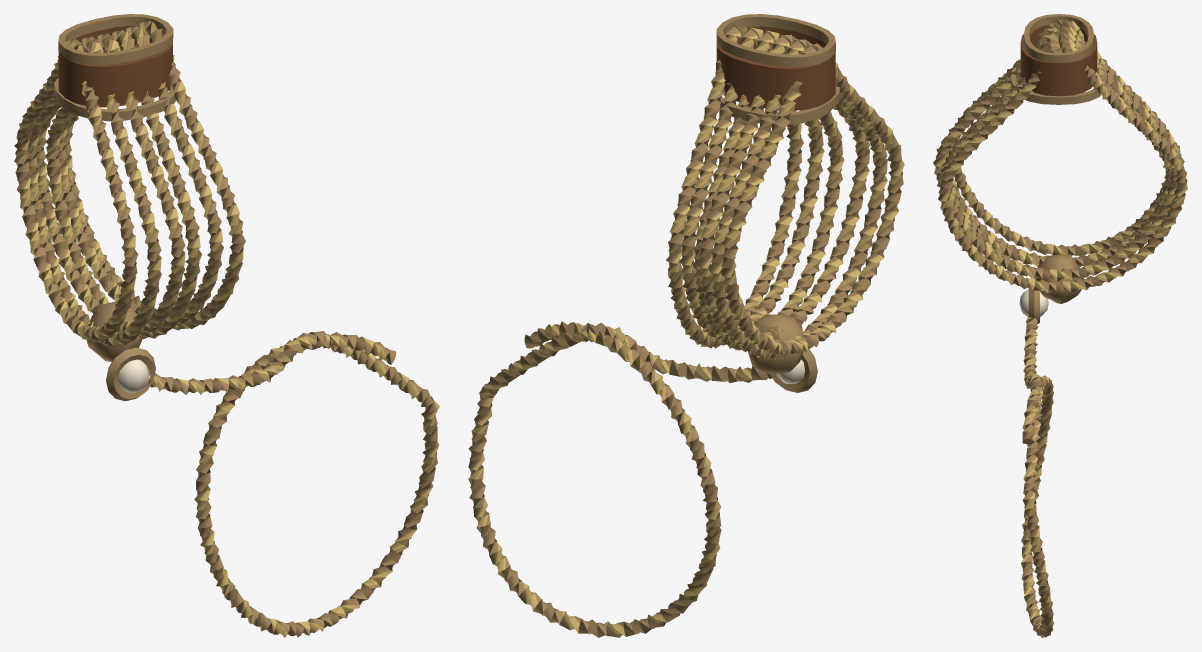
File: tool_lasso.fbx
The picture shows the model from 3 angles, left to right: view 1: azimuth 30°, elevation 25°; view 2: azimuth 150°, elevation 25°; view 3: azimuth 270°, elevation 25°; orthographic projection. The views are drawn at different scales.
Visible parts, largest first — view 1: Tool_Lasso_CoilA, Tool_Lasso_CoilB, Tool_Lasso_Honda, Tool_Lasso_Binding; view 2: Tool_Lasso_CoilA, Tool_Lasso_CoilB, Tool_Lasso_Honda, Tool_Lasso_Binding; view 3: Tool_Lasso_CoilB, Tool_Lasso_CoilA, Tool_Lasso_Honda, Tool_Lasso_Binding.
Part boxes in pixels (x1,y1,x2,y2): Tool_Lasso_CoilA: (14,33,185,347); Tool_Lasso_CoilB: (45,21,245,339); Tool_Lasso_Honda: (86,301,439,637); Tool_Lasso_Binding: (54,14,175,121); Tool_Lasso_CoilA: (696,34,904,359); Tool_Lasso_CoilB: (666,24,844,351); Tool_Lasso_Honda: (468,314,817,637); Tool_Lasso_Binding: (716,14,840,124); Tool_Lasso_CoilB: (938,36,1187,292); Tool_Lasso_CoilA: (933,18,1184,267); Tool_Lasso_Honda: (1019,254,1083,637); Tool_Lasso_Binding: (1010,14,1107,104).
Size of the model in its own units: 41.86 by 69.55 by 30.86.
